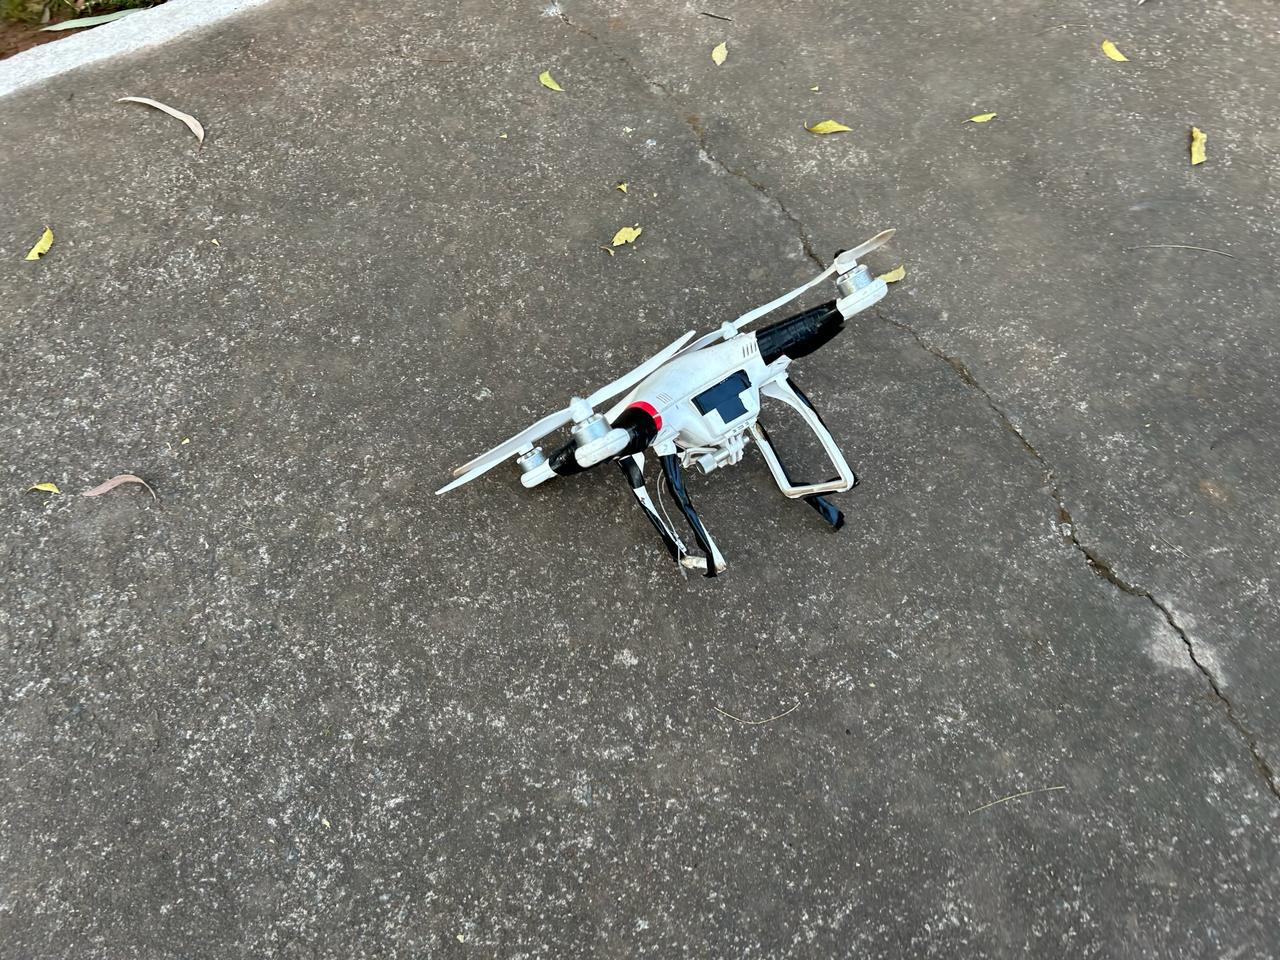drone: (437, 215, 912, 590)
